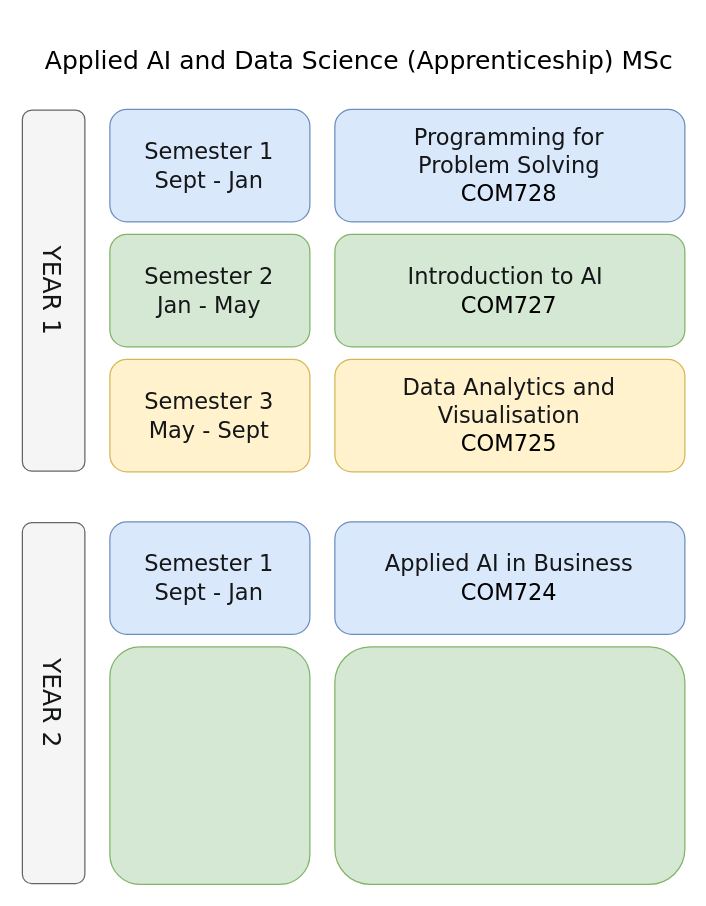
The diagram is 706 pixels wide and 906 high, and some of its shapes have lost their labels. Here are the shapes that lost their labels. From the top down, the centre of each, then its label:
the point at 209,765: Semester 2 & 3 Jan - Sept
the point at 509,765: Dissertation COM726
